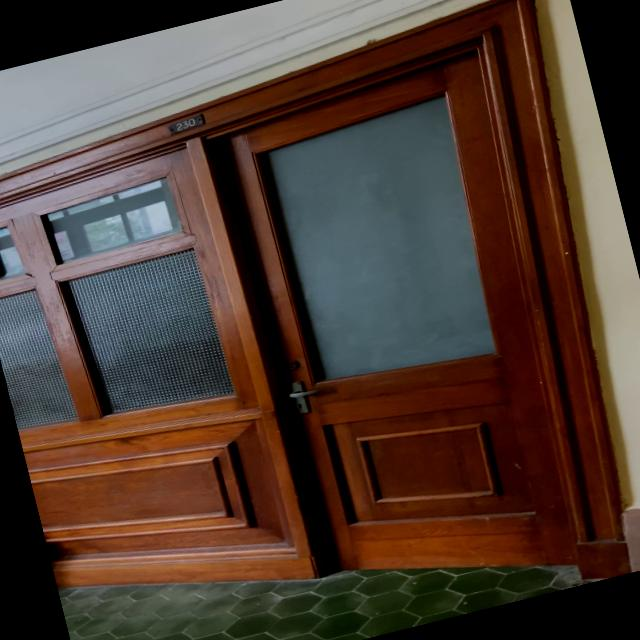room230: (166, 112, 207, 138)
